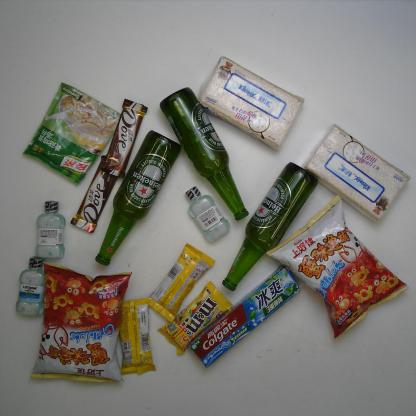Alcohol: (220, 160, 318, 292), (158, 86, 250, 223), (94, 129, 182, 267)
Chocolate: (155, 279, 234, 356), (148, 242, 216, 324), (100, 96, 148, 180), (69, 154, 118, 236), (118, 296, 158, 378)
Personal Hygiene: (188, 263, 302, 370), (184, 185, 232, 243), (14, 255, 46, 319), (34, 199, 67, 260)
Puffed Food: (265, 194, 411, 342), (29, 261, 134, 384)
Seasoner: (21, 80, 122, 188)
Tissue: (301, 123, 412, 226), (197, 55, 306, 154)
